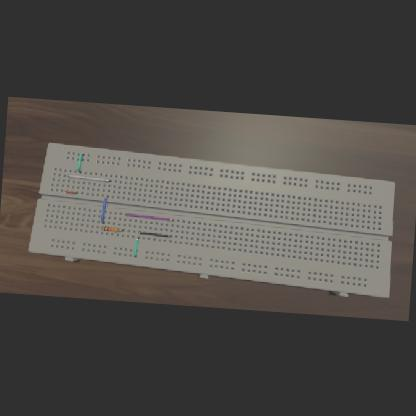breadboard: (25, 140, 396, 298)
resistor: (103, 225, 118, 231)
wire: (124, 212, 174, 220), (67, 174, 110, 181), (100, 195, 108, 222), (137, 231, 171, 236), (76, 152, 84, 172), (132, 236, 138, 256), (64, 190, 78, 193), (118, 228, 124, 230), (100, 226, 102, 227)
